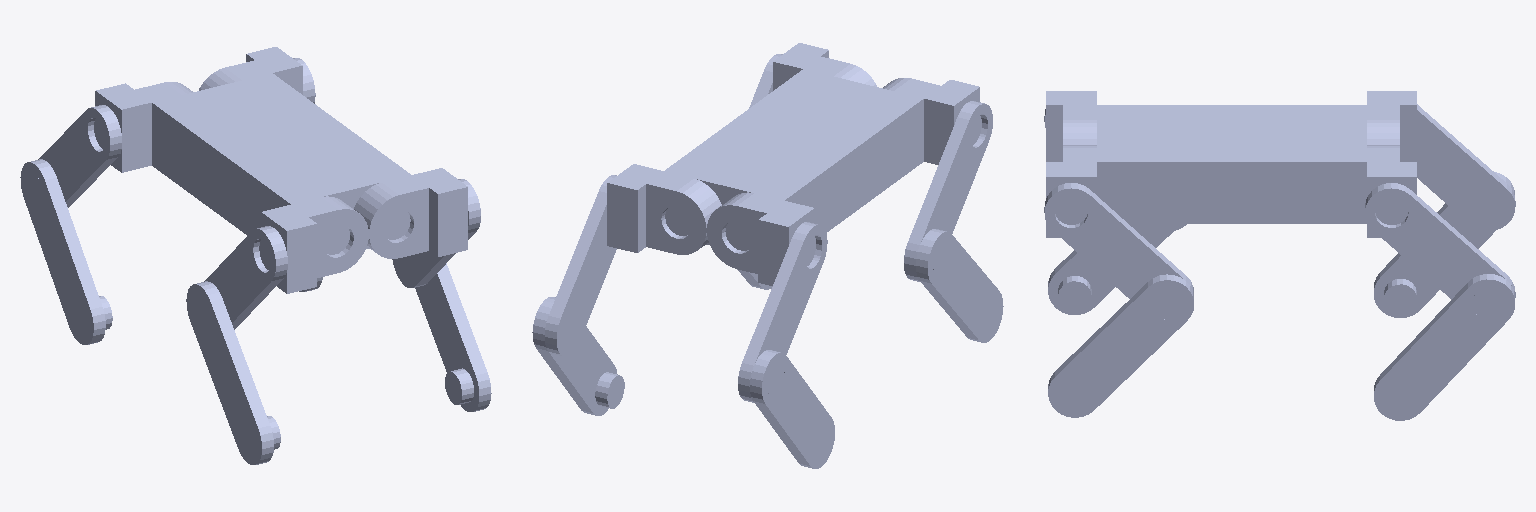
URDF robot description (catbot):
<?xml version="1.0" encoding="utf-8"?>
<!-- This URDF was automatically created by SolidWorks to URDF Exporter! Originally created by [author] ([email redacted])
     Commit Version: 1.5.1-0-g916b5db  Build Version: 1.5.7152.31018
     For more information, please see http://wiki.ros.org/sw_urdf_exporter -->
<robot
  name="catbot">
  <link
    name="torso">
    <inertial>
      <origin
        xyz="-0.0083533 0.0068737 -0.00026198"
        rpy="0 0 0" />
      <mass
        value="8.3142" />
      <inertia
        ixx="0.12863"
        ixy="7.3069E-19"
        ixz="-6.3527E-19"
        iyy="0.14942"
        iyz="-1.9086E-18"
        izz="0.034217" />
    </inertial>
    <visual>
      <origin
        xyz="0 0 0"
        rpy="0 0 0" />
      <geometry>
        <mesh
          filename="package://catbot/meshes/torso.STL" />
      </geometry>
      <material
        name="">
        <color
          rgba="0.79216 0.81961 0.93333 1" />
      </material>
    </visual>
    <collision>
      <origin
        xyz="0 0 0"
        rpy="0 0 0" />
      <geometry>
        <mesh
          filename="package://catbot/meshes/torso.STL" />
      </geometry>
    </collision>
  </link>
  <link
    name="LF_top">
    <inertial>
      <origin
        xyz="0.043443 0 0.031641"
        rpy="0 0 0" />
      <mass
        value="0.74281" />
      <inertia
        ixx="0.00091157"
        ixy="-4.3587E-20"
        ixz="-0.00016303"
        iyy="0.0015982"
        iyz="1.0339E-19"
        izz="0.0019492" />
    </inertial>
    <visual>
      <origin
        xyz="0 0 0"
        rpy="0 0 0" />
      <geometry>
        <mesh
          filename="package://catbot/meshes/LF_top.STL" />
      </geometry>
      <material
        name="">
        <color
          rgba="0.79216 0.81961 0.93333 1" />
      </material>
    </visual>
    <collision>
      <origin
        xyz="0 0 0"
        rpy="0 0 0" />
      <geometry>
        <mesh
          filename="package://catbot/meshes/LF_top.STL" />
      </geometry>
    </collision>
  </link>
  <joint
    name="LF_0"
    type="continuous">
    <origin
      xyz="0.041647 -0.19974 0.0068737"
      rpy="1.5708 0 0" />
    <parent
      link="torso" />
    <child
      link="LF_top" />
    <axis
      xyz="0 0 1" />
  </joint>
  <link
    name="LF_mid">
    <inertial>
      <origin
        xyz="0.011868 -0.11868 -4.0246E-15"
        rpy="0 0 0" />
      <mass
        value="0.42053" />
      <inertia
        ixx="0.0025177"
        ixy="6.3871E-05"
        ixz="1.7889E-18"
        iyy="0.00023914"
        iyz="-2.1684E-19"
        izz="0.0023351" />
    </inertial>
    <visual>
      <origin
        xyz="0 0 0"
        rpy="0 0 0" />
      <geometry>
        <mesh
          filename="package://catbot/meshes/LF_mid.STL" />
      </geometry>
      <material
        name="">
        <color
          rgba="0.79216 0.81961 0.93333 1" />
      </material>
    </visual>
    <collision>
      <origin
        xyz="0 0 0"
        rpy="0 0 0" />
      <geometry>
        <mesh
          filename="package://catbot/meshes/LF_mid.STL" />
      </geometry>
    </collision>
  </link>
  <joint
    name="LF_1"
    type="continuous">
    <origin
      xyz="0.1 0 0.0375"
      rpy="0.79172 0 0" />
    <parent
      link="LF_top" />
    <child
      link="LF_mid" />
    <axis
      xyz="1 0 0" />
    <limit effort="1000.0" lower="-2" upper="2" velocity="1000"/>
  </joint>
  <link
    name="LF_bot">
    <inertial>
      <origin
        xyz="-0.0281323654405417 -0.118676345594585 -1.38777878078145E-16"
        rpy="0 0 0" />
      <mass
        value="0.420530964914874" />
      <inertia
        ixx="0.00251771741245767"
        ixy="6.38714488107791E-05"
        ixz="1.43157697061471E-20"
        iyy="0.000239137877978165"
        iyz="-1.88380127469356E-18"
        izz="0.0023350971851706" />
    </inertial>
    <visual>
      <origin
        xyz="0 0 0"
        rpy="0 0 0" />
      <geometry>
        <mesh
          filename="package://catbot/meshes/LF_bot.STL" />
      </geometry>
      <material
        name="">
        <color
          rgba="0.792156862745098 0.819607843137255 0.933333333333333 1" />
      </material>
    </visual>
    <collision>
      <origin
        xyz="0 0 0"
        rpy="0 0 0" />
      <geometry>
        <mesh
          filename="package://catbot/meshes/LF_bot.STL" />
      </geometry>
    </collision>
  </link>
  <joint
    name="LF_2"
    type="continuous">
    <origin
      xyz="0 -0.2 0"
      rpy="-1.5941 0 3.1416" />
    <parent
      link="LF_mid" />
    <child
      link="LF_bot" />
    <axis
      xyz="1 0 0" />
    <limit effort="1000.0" lower="-2" upper="2" velocity="1000"/>
  </joint>
  <link
    name="RF_top">
    <inertial>
      <origin
        xyz="0.0434431624243415 -0.01 0.0316409159213933"
        rpy="0 0 0" />
      <mass
        value="0.742809724509617" />
      <inertia
        ixx="0.000911568064346272"
        ixy="1.6752244435703E-19"
        ixz="-0.000163030997128549"
        iyy="0.00159822809215748"
        iyz="3.07637244182487E-20"
        izz="0.00194921992793341" />
    </inertial>
    <visual>
      <origin
        xyz="0 0 0"
        rpy="0 0 0" />
      <geometry>
        <mesh
          filename="package://catbot/meshes/RF_top.STL" />
      </geometry>
      <material
        name="">
        <color
          rgba="0.792156862745098 0.819607843137255 0.933333333333333 1" />
      </material>
    </visual>
    <collision>
      <origin
        xyz="0 0 0"
        rpy="0 0 0" />
      <geometry>
        <mesh
          filename="package://catbot/meshes/RF_top.STL" />
      </geometry>
    </collision>
  </link>
  <joint
    name="RF_0"
    type="continuous">
    <origin
      xyz="-0.058353 -0.19974 -0.0031263"
      rpy="-1.5708 0 -3.1416" />
    <parent
      link="torso" />
    <child
      link="RF_top" />
    <axis
      xyz="0 0 1" />
    <limit effort="1000.0" lower="-2" upper="2" velocity="1000"/>
  </joint>
  <link
    name="RF_mid">
    <inertial>
      <origin
        xyz="0.0118676345594662 -0.118676345594519 6.94722057659192E-14"
        rpy="0 0 0" />
      <mass
        value="0.420530964914874" />
      <inertia
        ixx="0.00251771741245767"
        ixy="6.3871448810783E-05"
        ixz="4.01403446656845E-20"
        iyy="0.000239137877978165"
        iyz="-1.33492392487278E-18"
        izz="0.0023350971851706" />
    </inertial>
    <visual>
      <origin
        xyz="0 0 0"
        rpy="0 0 0" />
      <geometry>
        <mesh
          filename="package://catbot/meshes/RF_mid.STL" />
      </geometry>
      <material
        name="">
        <color
          rgba="0.792156862745098 0.819607843137255 0.933333333333333 1" />
      </material>
    </visual>
    <collision>
      <origin
        xyz="0 0 0"
        rpy="0 0 0" />
      <geometry>
        <mesh
          filename="package://catbot/meshes/RF_mid.STL" />
      </geometry>
    </collision>
  </link>
  <joint
    name="RF_1"
    type="continuous">
    <origin
      xyz="0.1 -0.01 0.0375"
      rpy="2.3499 0 0" />
    <parent
      link="RF_top" />
    <child
      link="RF_mid" />
    <axis
      xyz="1 0 0" />
    <limit effort="1000.0" lower="-2" upper="2" velocity="1000"/>
  </joint>
  <link
    name="RF_bot">
    <inertial>
      <origin
        xyz="-0.0281323654405531 -0.118676345594582 2.92821322744885E-15"
        rpy="0 0 0" />
      <mass
        value="0.420530964914873" />
      <inertia
        ixx="0.00251771741245768"
        ixy="6.38714488105677E-05"
        ixz="-1.58293517182884E-17"
        iyy="0.000239137877978152"
        iyz="-5.48877349820787E-18"
        izz="0.0023350971851706" />
    </inertial>
    <visual>
      <origin
        xyz="0 0 0"
        rpy="0 0 0" />
      <geometry>
        <mesh
          filename="package://catbot/meshes/RF_bot.STL" />
      </geometry>
      <material
        name="">
        <color
          rgba="0.792156862745098 0.819607843137255 0.933333333333333 1" />
      </material>
    </visual>
    <collision>
      <origin
        xyz="0 0 0"
        rpy="0 0 0" />
      <geometry>
        <mesh
          filename="package://catbot/meshes/RF_bot.STL" />
      </geometry>
    </collision>
  </link>
  <joint
    name="RF_2"
    type="continuous">
    <origin
      xyz="0 -0.2 0"
      rpy="1.5941 0 3.1416" />
    <parent
      link="RF_mid" />
    <child
      link="RF_bot" />
    <axis
      xyz="1 0 0" />
    <limit effort="1000.0" lower="-2" upper="2" velocity="1000"/>
  </joint>
  <link
    name="LB_top">
    <inertial>
      <origin
        xyz="0.0434431624241247 -0.0100001372498214 0.0316409159213933"
        rpy="0 0 0" />
      <mass
        value="0.742809724509618" />
      <inertia
        ixx="0.000911568064353126"
        ixy="2.16936247095985E-09"
        ixz="-0.000163030997127735"
        iyy="0.00159822809215063"
        iyz="5.15063222596367E-10"
        izz="0.00194921992793341" />
    </inertial>
    <visual>
      <origin
        xyz="0 0 0"
        rpy="0 0 0" />
      <geometry>
        <mesh
          filename="package://catbot/meshes/LB_top.STL" />
      </geometry>
      <material
        name="">
        <color
          rgba="0.792156862745098 0.819607843137255 0.933333333333333 1" />
      </material>
    </visual>
    <collision>
      <origin
        xyz="0 0 0"
        rpy="0 0 0" />
      <geometry>
        <mesh
          filename="package://catbot/meshes/LB_top.STL" />
      </geometry>
    </collision>
  </link>
  <joint
    name="LB_0"
    type="continuous">
    <origin
      xyz="0.041647 0.20026 -0.0031263"
      rpy="-1.5708 0 0" />
    <parent
      link="torso" />
    <child
      link="LB_top" />
    <axis
      xyz="0 0 1" />
    <limit effort="1000.0" lower="-2" upper="2" velocity="1000"/>
  </joint>
  <link
    name="LB_mid">
    <inertial>
      <origin
        xyz="0.011868693885371 -0.118676319452495 -2.68805545600159E-08"
        rpy="0 0 0" />
      <mass
        value="0.420530964914874" />
      <inertia
        ixx="0.00251771713107495"
        ixy="6.38764676846582E-05"
        ixz="-4.13607547178146E-10"
        iyy="0.000239138159359952"
        iyz="-1.44665601201045E-10"
        izz="0.00233509718517154" />
    </inertial>
    <visual>
      <origin
        xyz="0 0 0"
        rpy="0 0 0" />
      <geometry>
        <mesh
          filename="package://catbot/meshes/LB_mid.STL" />
      </geometry>
      <material
        name="">
        <color
          rgba="0.792156862745098 0.819607843137255 0.933333333333333 1" />
      </material>
    </visual>
    <collision>
      <origin
        xyz="0 0 0"
        rpy="0 0 0" />
      <geometry>
        <mesh
          filename="package://catbot/meshes/LB_mid.STL" />
      </geometry>
    </collision>
  </link>
  <joint
    name="LB_1"
    type="continuous">
    <origin
      xyz="0.099999 -0.01 0.0375"
      rpy="-2.3423 0 0" />
    <parent
      link="LB_top" />
    <child
      link="LB_mid" />
    <axis
      xyz="1 0 0" />
    <limit effort="1000.0" lower="-2" upper="2" velocity="1000"/>
  </joint>
  <link
    name="LB_bot">
    <inertial>
      <origin
        xyz="-0.0281332007150992 -0.118676345594585 -1.66533453693773E-16"
        rpy="0 0 0" />
      <mass
        value="0.420530964914873" />
      <inertia
        ixx="0.00251771741245767"
        ixy="6.38714488107831E-05"
        ixz="2.30430819882172E-20"
        iyy="0.000239137877978164"
        iyz="-3.74727375865302E-18"
        izz="0.0023350971851706" />
    </inertial>
    <visual>
      <origin
        xyz="0 0 0"
        rpy="0 0 0" />
      <geometry>
        <mesh
          filename="package://catbot/meshes/LB_bot.STL" />
      </geometry>
      <material
        name="">
        <color
          rgba="0.792156862745098 0.819607843137255 0.933333333333333 1" />
      </material>
    </visual>
    <collision>
      <origin
        xyz="0 0 0"
        rpy="0 0 0" />
      <geometry>
        <mesh
          filename="package://catbot/meshes/LB_bot.STL" />
      </geometry>
    </collision>
  </link>
  <joint
    name="LB_2"
    type="continuous">
    <origin
      xyz="0 -0.2 0"
      rpy="-1.6314 0 -3.1416" />
    <parent
      link="LB_mid" />
    <child
      link="LB_bot" />
    <axis
      xyz="1 0 0" />
    <limit effort="1000.0" lower="-2" upper="2" velocity="1000"/>
  </joint>
  <link
    name="RB_top">
    <inertial>
      <origin
        xyz="0.0434431624243415 1.12757025938492E-17 0.0316409159213933"
        rpy="0 0 0" />
      <mass
        value="0.742809724509618" />
      <inertia
        ixx="0.000911568064346272"
        ixy="-1.44645351404391E-19"
        ixz="-0.000163030997128549"
        iyy="0.00159822809215748"
        iyz="4.91108503406155E-20"
        izz="0.00194921992793341" />
    </inertial>
    <visual>
      <origin
        xyz="0 0 0"
        rpy="0 0 0" />
      <geometry>
        <mesh
          filename="package://catbot/meshes/RB_top.STL" />
      </geometry>
      <material
        name="">
        <color
          rgba="0.792156862745098 0.819607843137255 0.933333333333333 1" />
      </material>
    </visual>
    <collision>
      <origin
        xyz="0 0 0"
        rpy="0 0 0" />
      <geometry>
        <mesh
          filename="package://catbot/meshes/RB_top.STL" />
      </geometry>
    </collision>
  </link>
  <joint
    name="RB_0"
    type="continuous">
    <origin
      xyz="-0.058353 0.20026 0.0068737"
      rpy="1.5708 0 -3.1416" />
    <parent
      link="torso" />
    <child
      link="RB_top" />
    <axis
      xyz="0 0 1" />
    <limit effort="1000.0" lower="-2" upper="2" velocity="1000"/>
  </joint>
  <link
    name="RB_mid">
    <inertial>
      <origin
        xyz="0.011868432325419 -0.118676345594585 -5.55111512312578E-17"
        rpy="0 0 0" />
      <mass
        value="0.420530964914873" />
      <inertia
        ixx="0.00251771741245767"
        ixy="6.38714488107831E-05"
        ixz="2.72171227868639E-20"
        iyy="0.000239137877978165"
        iyz="-3.9979955110403E-19"
        izz="0.0023350971851706" />
    </inertial>
    <visual>
      <origin
        xyz="0 0 0"
        rpy="0 0 0" />
      <geometry>
        <mesh
          filename="package://catbot/meshes/RB_mid.STL" />
      </geometry>
      <material
        name="">
        <color
          rgba="0.792156862745098 0.819607843137255 0.933333333333333 1" />
      </material>
    </visual>
    <collision>
      <origin
        xyz="0 0 0"
        rpy="0 0 0" />
      <geometry>
        <mesh
          filename="package://catbot/meshes/RB_mid.STL" />
      </geometry>
    </collision>
  </link>
  <joint
    name="RB_1"
    type="continuous">
    <origin
      xyz="0.099999 0 0.0375"
      rpy="-0.79932 0 0" />
    <parent
      link="RB_top" />
    <child
      link="RB_mid" />
    <axis
      xyz="1 0 0" />
    <limit effort="1000.0" lower="-2" upper="2" velocity="1000"/>
  </joint>
  <link
    name="RB_bot">
    <inertial>
      <origin
        xyz="-0.0281329164733092 -0.118676412936461 -5.79800436550926E-08"
        rpy="0 0 0" />
      <mass
        value="0.420530964914874" />
      <inertia
        ixx="0.00251771710666669"
        ixy="6.38769030274317E-05"
        ixz="3.7636560139059E-10"
        iyy="0.000239138183768367"
        iyz="1.31640157874033E-10"
        izz="0.00233509718517138" />
    </inertial>
    <visual>
      <origin
        xyz="0 0 0"
        rpy="0 0 0" />
      <geometry>
        <mesh
          filename="package://catbot/meshes/RB_bot.STL" />
      </geometry>
      <material
        name="">
        <color
          rgba="0.792156862745098 0.819607843137255 0.933333333333333 1" />
      </material>
    </visual>
    <collision>
      <origin
        xyz="0 0 0"
        rpy="0 0 0" />
      <geometry>
        <mesh
          filename="package://catbot/meshes/RB_bot.STL" />
      </geometry>
    </collision>
  </link>
  <joint
    name="RB_2"
    type="continuous">
    <origin
      xyz="0 -0.2 0"
      rpy="1.6314 0 -3.1416" />
    <parent
      link="RB_mid" />
    <child
      link="RB_bot" />
    <axis
      xyz="1 0 0" />
    <limit effort="1000.0" lower="-2" upper="2" velocity="1000"/>
  </joint>
</robot>

--- Facts derived from the render (not from the file) ---
Views: 3 orthographic renders of the robot side by side, from view 1: azimuth 30°, elevation 25°; view 2: azimuth 150°, elevation 25°; view 3: azimuth 270°, elevation 25°.
Model catbot with 13 links and 12 joints (12 continuous), rooted at torso, posed every joint at zero.
Visible links, largest first — view 1: torso, LF_top, RB_bot, RF_bot, RF_top, LF_bot, RF_mid, RB_mid, RB_top, LB_top, LF_mid; view 2: torso, LB_top, RF_mid, RB_mid, RB_top, RB_bot, LB_mid, RF_bot, LB_bot, RF_top, LF_top, LF_mid; view 3: torso, LF_bot, LB_bot, LB_mid, LF_mid, RB_mid, RB_bot, RF_bot, RF_top, RB_top, LF_top, LB_top.
Boxes of the visible links, x1,y1,x2,y2 form: torso: [152, 73, 410, 254]; LF_top: [354, 168, 467, 258]; RB_bot: [20, 159, 112, 344]; RF_bot: [186, 281, 280, 464]; RF_top: [259, 196, 368, 293]; LF_bot: [415, 263, 491, 411]; RF_mid: [192, 226, 287, 329]; RB_mid: [26, 105, 121, 207]; RB_top: [94, 82, 192, 172]; LB_top: [199, 47, 302, 94]; LF_mid: [392, 179, 480, 287]; torso: [665, 69, 923, 250]; LB_top: [607, 164, 721, 254]; RF_mid: [904, 101, 992, 281]; RB_mid: [738, 222, 827, 402]; RB_top: [707, 192, 815, 285]; RB_bot: [750, 350, 834, 468]; LB_mid: [545, 175, 616, 356]; RF_bot: [916, 229, 1003, 342]; LB_bot: [532, 297, 624, 415]; RF_top: [883, 78, 981, 164]; LF_top: [773, 43, 876, 90]; LF_mid: [749, 54, 782, 107]; torso: [1097, 105, 1366, 223]; LF_bot: [1048, 274, 1193, 417]; LB_bot: [1374, 274, 1514, 420]; LB_mid: [1365, 183, 1515, 318]; LF_mid: [1044, 183, 1193, 319]; RB_mid: [1417, 104, 1515, 230]; RB_bot: [1374, 172, 1514, 317]; RF_bot: [1048, 224, 1173, 314]; RF_top: [1046, 91, 1096, 161]; RB_top: [1367, 91, 1416, 161]; LF_top: [1046, 145, 1096, 237]; LB_top: [1367, 145, 1416, 237].
Bounding box of the posed robot: 0.38 × 0.6984 × 0.3809 m (x, y, z).
Meshes: 13 distinct files referenced, 13 mesh visuals loaded (13 binary STL).